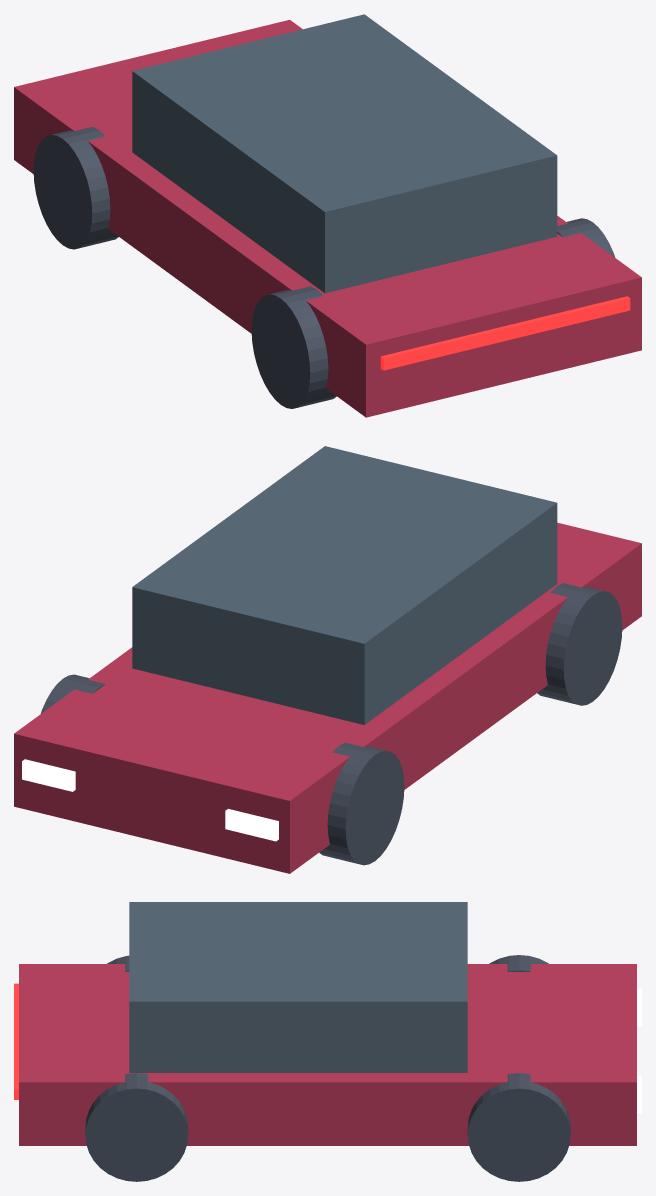
File: vehicle_sedan.glb
3 views of the same model, one above another, from view 1: azimuth 30°, elevation 25°; view 2: azimuth 150°, elevation 25°; view 3: azimuth 270°, elevation 25° (orthographic). The views are drawn at different scales.
Visible parts, largest first — view 1: Vehicle_Sedan; view 2: Vehicle_Sedan; view 3: Vehicle_Sedan.
Part boxes in pixels (x1,y1,x2,y2): Vehicle_Sedan: [14, 14, 641, 417]; Vehicle_Sedan: [14, 446, 641, 873]; Vehicle_Sedan: [14, 902, 641, 1181].
Bounding box in the file's own units: 2.15 × 1.23 × 4.27.
